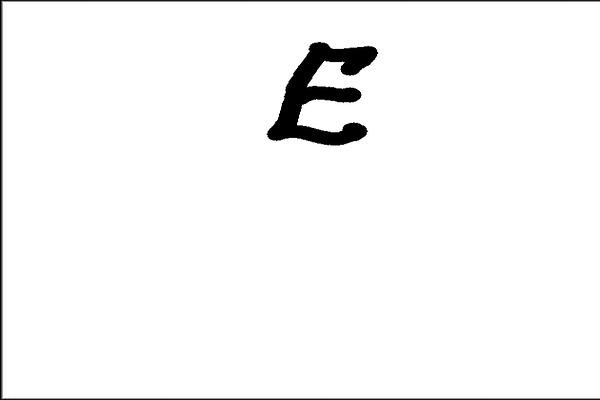E: (263, 40, 380, 150)
